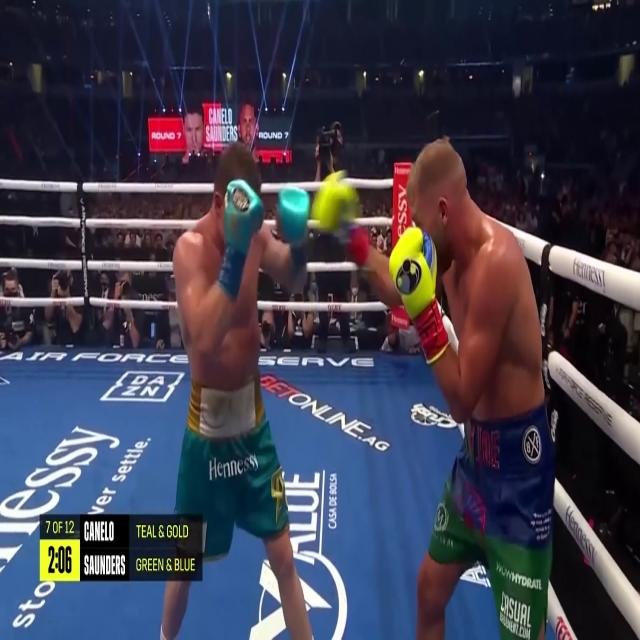boxer_1: (407, 140, 544, 421)
boxer_2: (190, 233, 263, 387), (193, 143, 260, 289)
gloves_1: (389, 227, 449, 366), (310, 169, 368, 266)
gloves_2: (219, 180, 263, 297), (277, 187, 309, 280)
